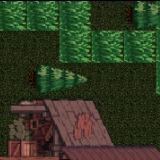Obstacle: (0, 95, 156, 160), (24, 62, 60, 94), (123, 0, 155, 30)
Slow: (60, 29, 160, 61), (0, 0, 91, 29)
